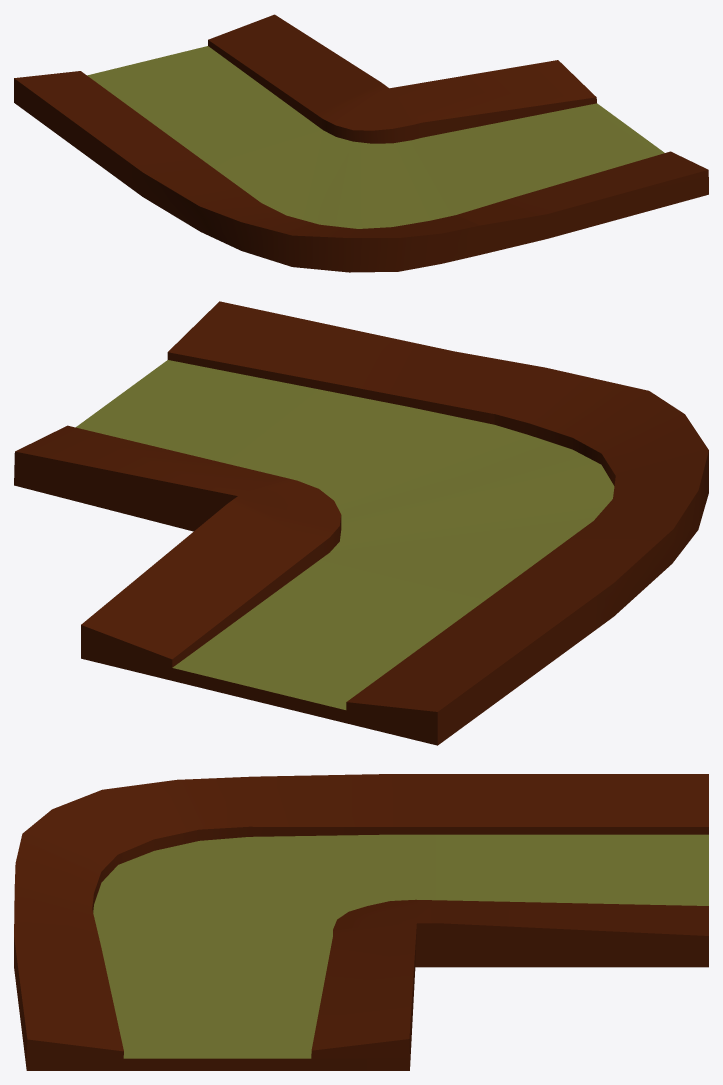
File: Left_Track.fbx
3 views of the same model, one above another, from view 1: azimuth 30°, elevation 25°; view 2: azimuth 150°, elevation 25°; view 3: azimuth 270°, elevation 25° (orthographic). The views are drawn at different scales.
Visible parts, largest first — view 1: Left_Track; view 2: Left_Track; view 3: Left_Track.
Part boxes in pixels (left/top/right/bottom): Left_Track: left=14, top=14, right=708, bottom=272; Left_Track: left=14, top=301, right=708, bottom=745; Left_Track: left=14, top=774, right=708, bottom=1070.
Size of the model in its own units: 4697 by 366 by 5198.
